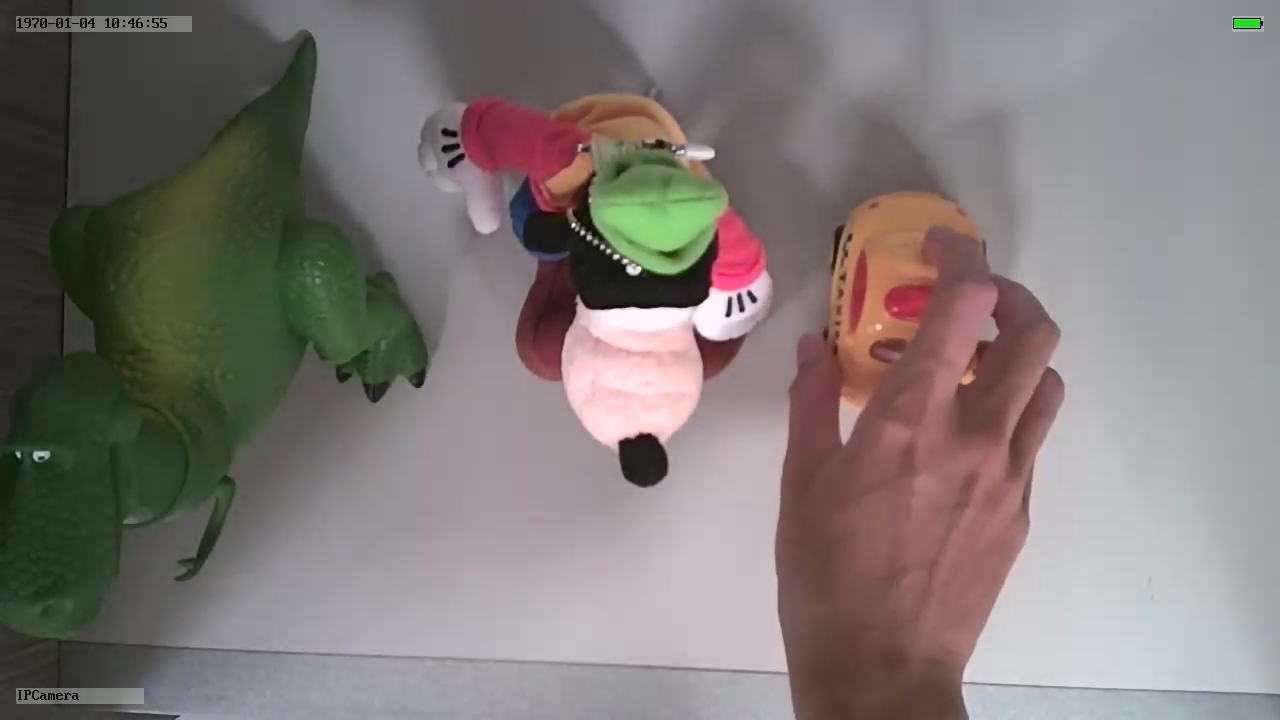goofy: (418, 87, 775, 487)
